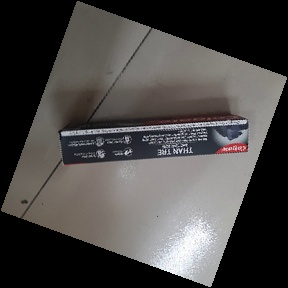Colgate Than: (58, 113, 250, 170)
